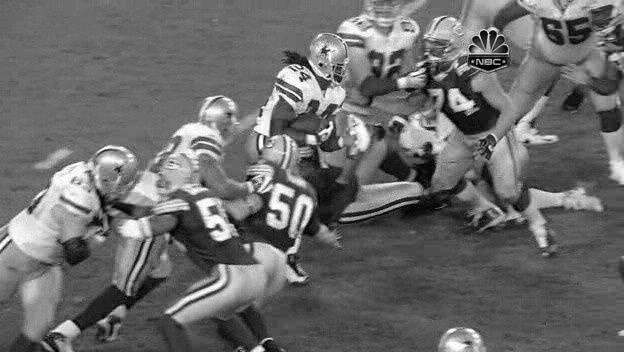person: (314, 35, 349, 79), (313, 35, 348, 79), (315, 35, 350, 79), (314, 34, 349, 78), (314, 36, 349, 80)
target_negative: (385, 86, 549, 275), (289, 104, 396, 205), (590, 13, 612, 310), (268, 288, 396, 308), (72, 346, 332, 348)
